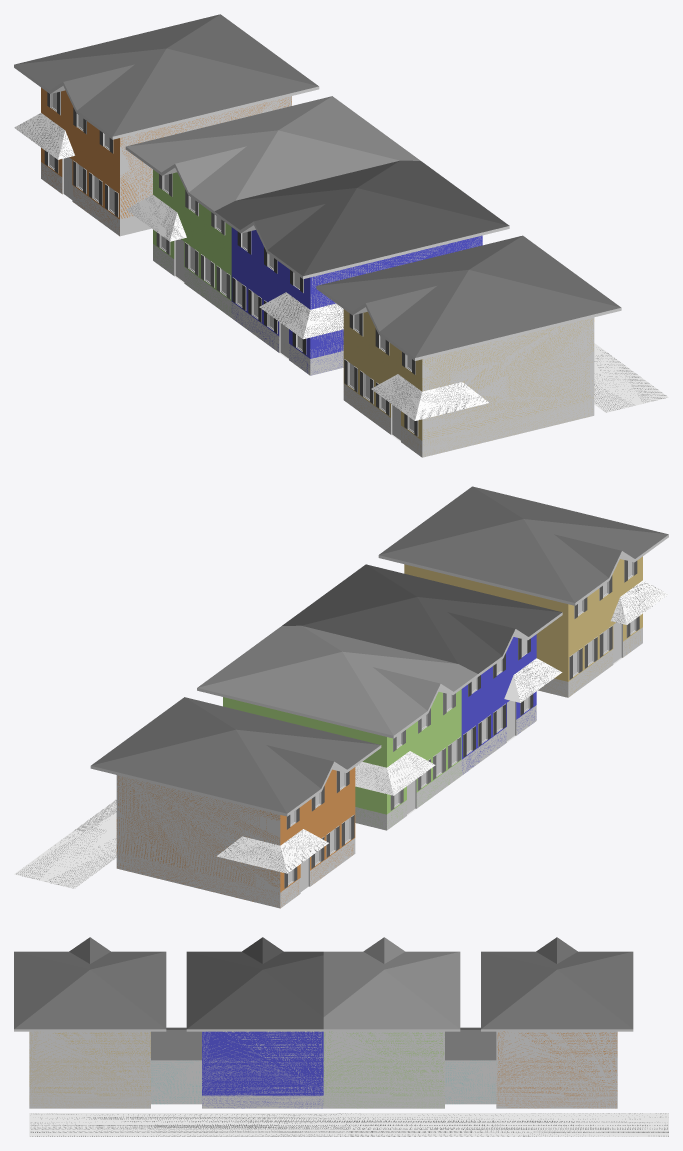
File: koppers.dae
The picture shows the model from 3 angles, top to bottom: view 1: azimuth 30°, elevation 25°; view 2: azimuth 150°, elevation 25°; view 3: azimuth 270°, elevation 25°; orthographic projection. The views are drawn at different scales.
Visible parts, largest first — view 1: SketchUp (×22); view 2: SketchUp (×22); view 3: SketchUp (×20).
Part boxes in pixels (x1,y1,x2,y2): SketchUp (×22): (14, 14, 668, 457); SketchUp (×22): (14, 486, 668, 908); SketchUp (×20): (14, 937, 668, 1136).
Size of the model in its own units: 138 by 384 by 69.
